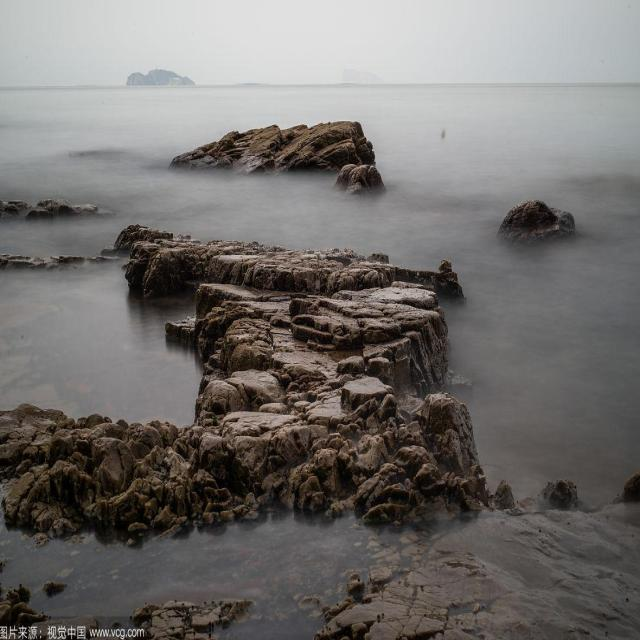reef: (86, 184, 261, 345), (205, 118, 405, 220), (482, 156, 594, 248)
